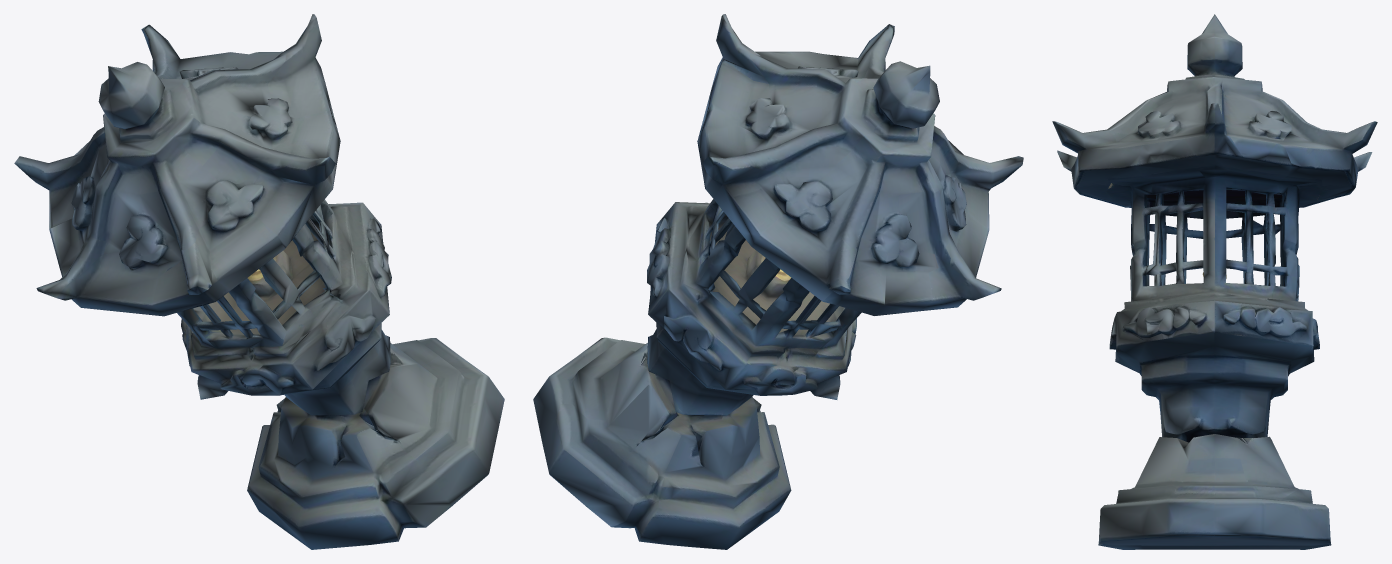
File: ss_zaisha.glb
3 renders of one model, left to right at view 1: azimuth 30°, elevation 25°; view 2: azimuth 150°, elevation 25°; view 3: azimuth 270°, elevation 25°, orthographic. The views are drawn at different scales.
Visible parts, largest first — view 1: tripo_node_d63c5fb4-ac14-45ec-a3c9-20b9c094acaa; view 2: tripo_node_d63c5fb4-ac14-45ec-a3c9-20b9c094acaa; view 3: tripo_node_d63c5fb4-ac14-45ec-a3c9-20b9c094acaa.
Boxes of the visible parts, <box> form: tripo_node_d63c5fb4-ac14-45ec-a3c9-20b9c094acaa: <box>14,14,504,549</box>; tripo_node_d63c5fb4-ac14-45ec-a3c9-20b9c094acaa: <box>533,14,1023,549</box>; tripo_node_d63c5fb4-ac14-45ec-a3c9-20b9c094acaa: <box>1052,14,1377,549</box>.
Size of the model in its own units: 0.9039 by 0.9979 by 0.6512.
1 material, 1 textured.
